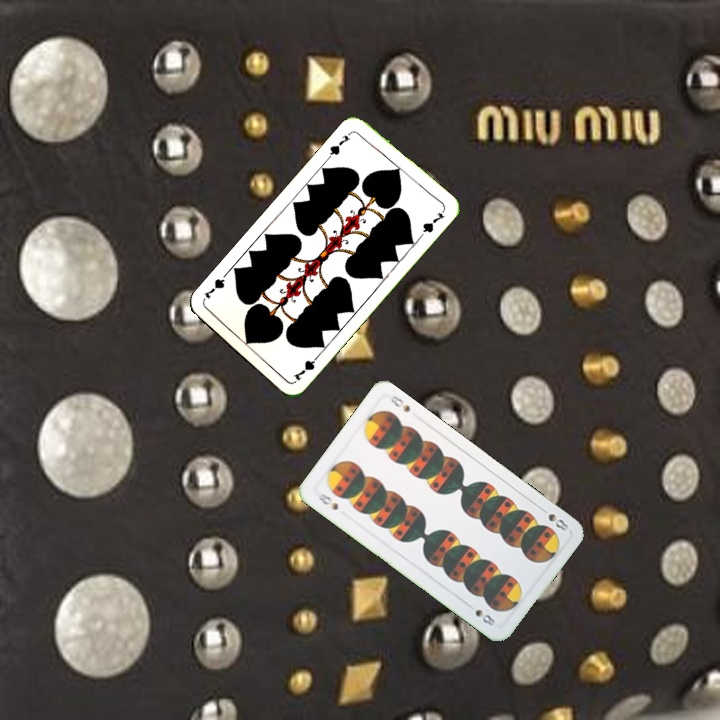G7: (289, 350, 323, 383), (324, 127, 355, 161)
S8: (536, 503, 571, 533), (312, 490, 341, 513)
